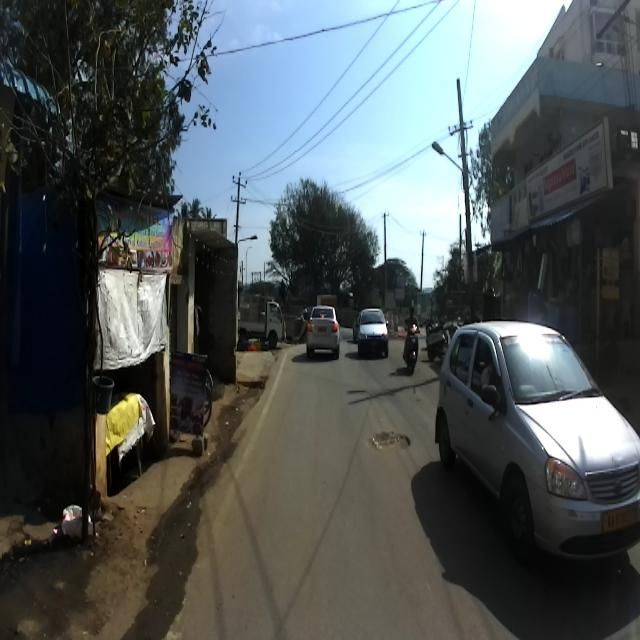car: (432, 321, 640, 564), (305, 301, 341, 363), (356, 305, 389, 361)
scooter: (403, 316, 419, 374)
truck: (238, 292, 288, 350)
